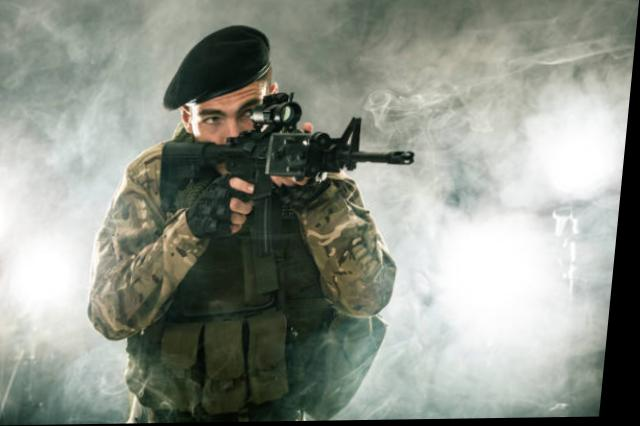other: (92, 13, 413, 417)
